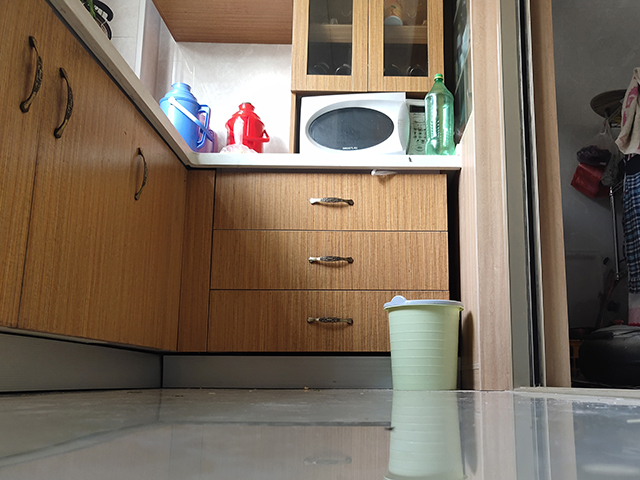cabinet: (1, 1, 189, 394), (184, 150, 455, 393)
trashcan: (381, 294, 464, 392)
